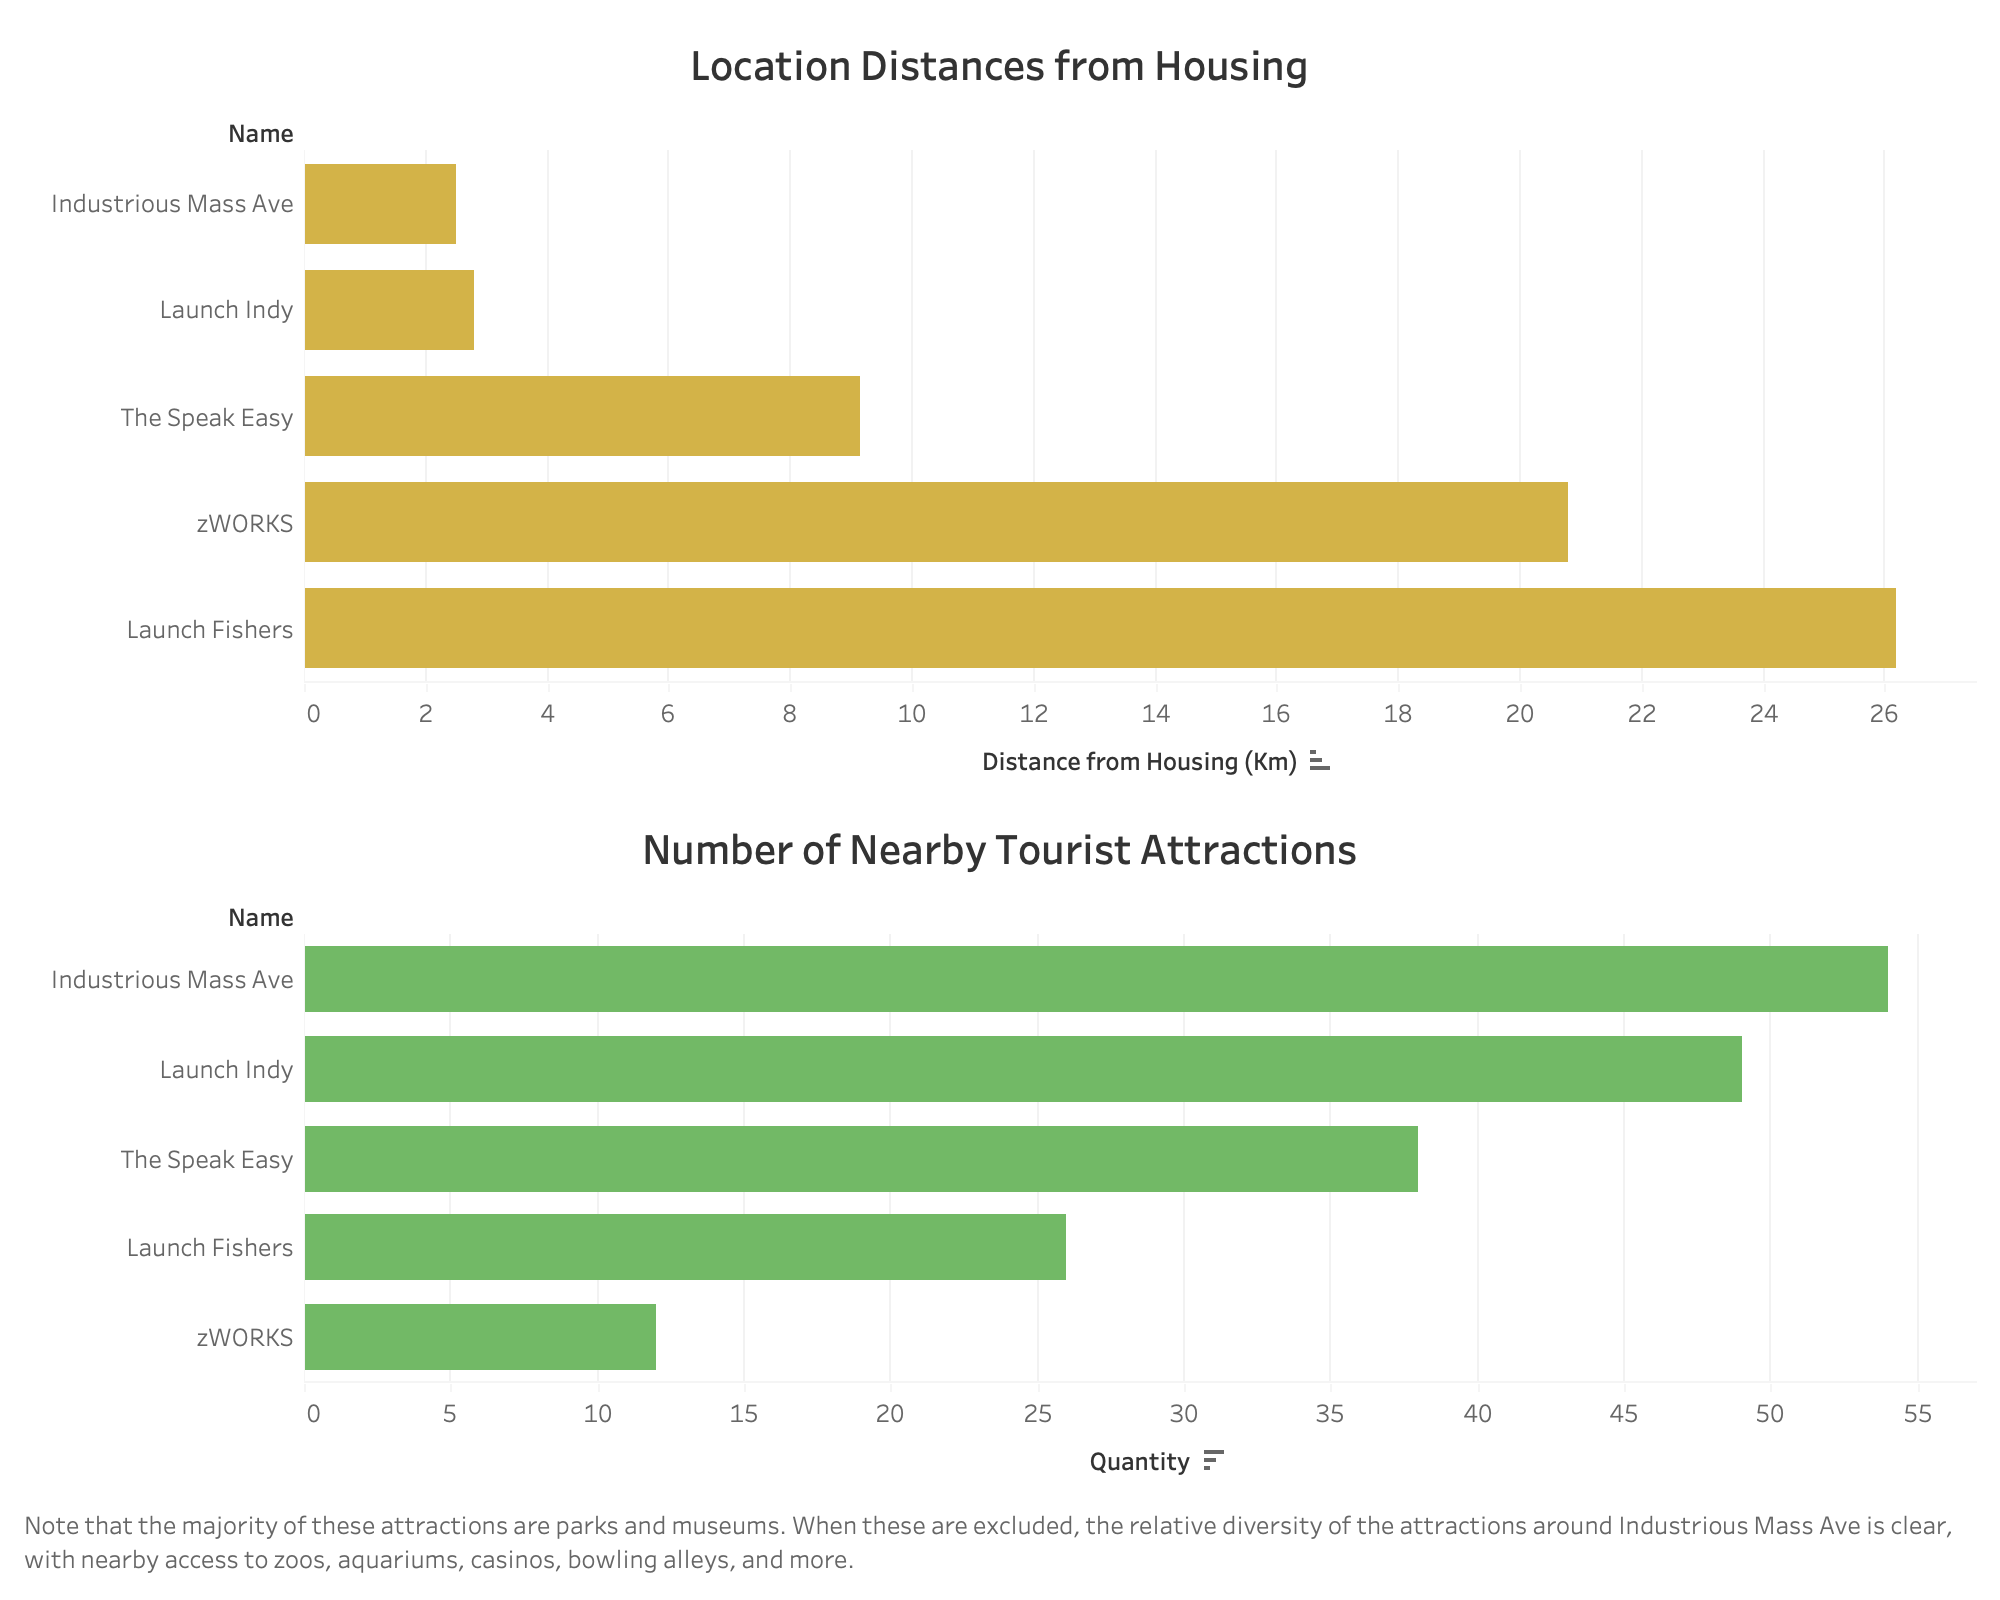

The dashboard page shown, as its layout file describes it:
{"tool":"tableau","page":{"name":"General Info","canvas":[1000,800],"ordinal":0},"visuals":[{"type":"worksheet","title":"Distance","mark":"Automatic","rows":["Name"],"cols":["distance(km)"],"box":[8,8,984,392]},{"type":"worksheet","title":"Tourist Attractions","mark":"Automatic","rows":["Name"],"cols":["Num Attractions"],"box":[8,400,984,392]}]}

Visuals, with their boxes in screenshot pixels (x1, y1, x2, y2), scaled from the page's 1000x800 canvas onto the 2000x1600 screenshot:
"Distance" worksheet: bbox=(16, 16, 1984, 800)
"Tourist Attractions" worksheet: bbox=(16, 800, 1984, 1584)
